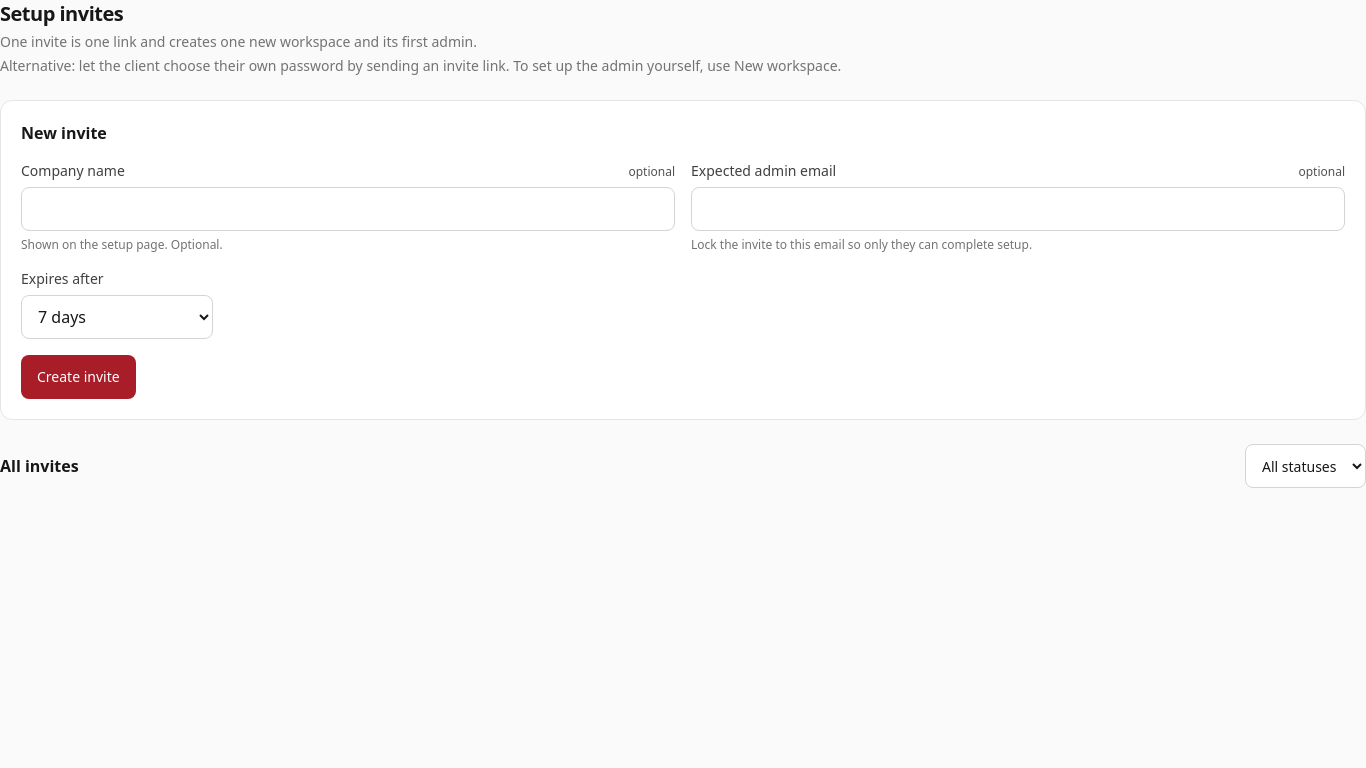
Test case: reauthentication › cancelling the dialog abandons the action quietly
The width and height of the screenshot is (1366, 768).
In the field labelled "Company name optional": (348, 209) 21,187 -> 675,231, type "Acme Quarry"
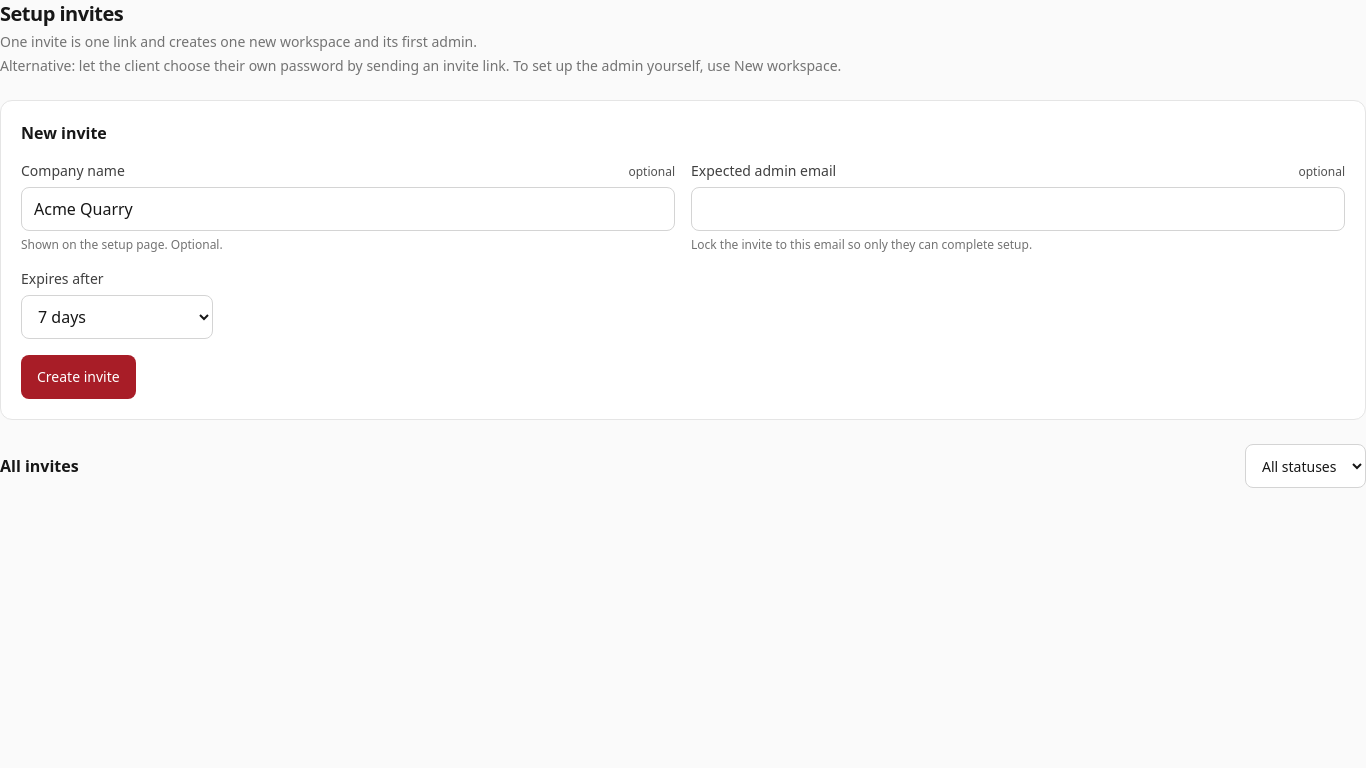
Click the button "Create invite": (78, 377) 21,355 -> 136,399
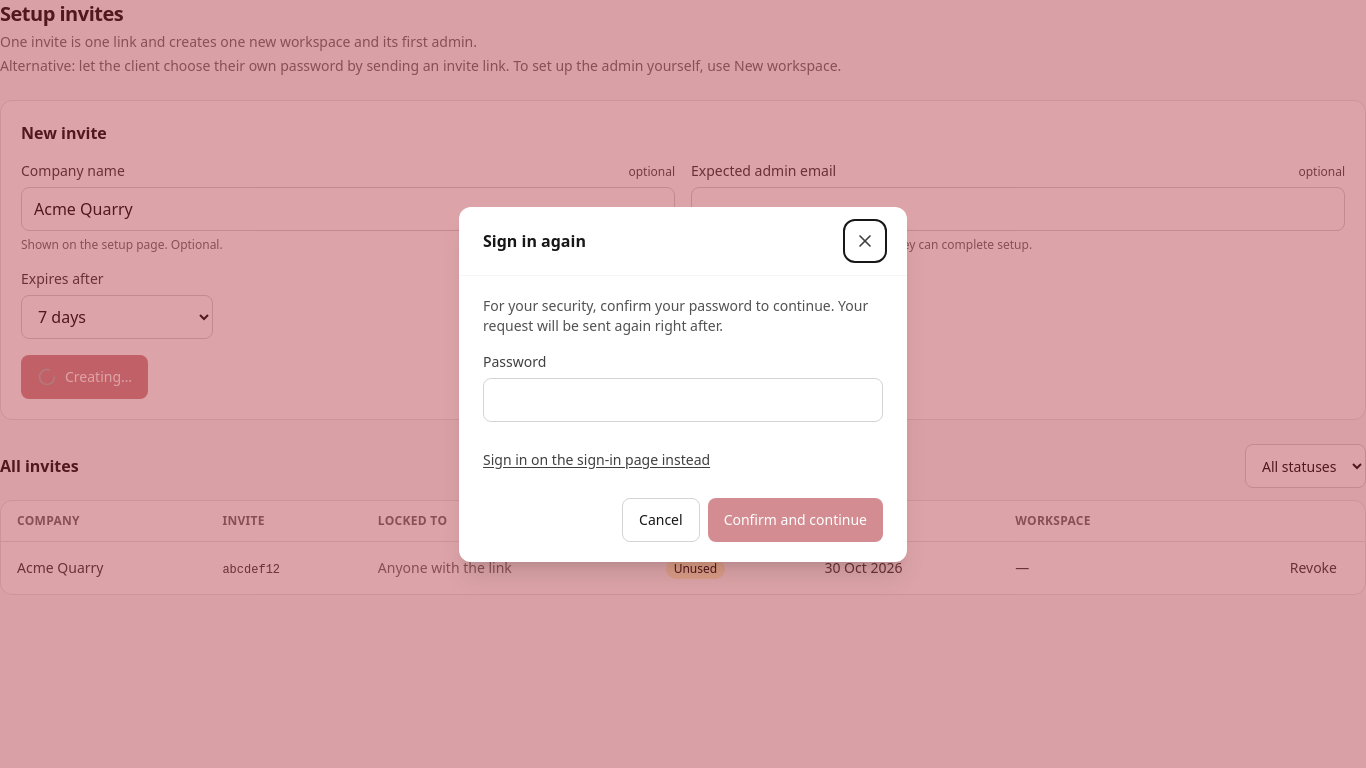
Click the button "Cancel": (661, 520) 622,498 -> 700,542
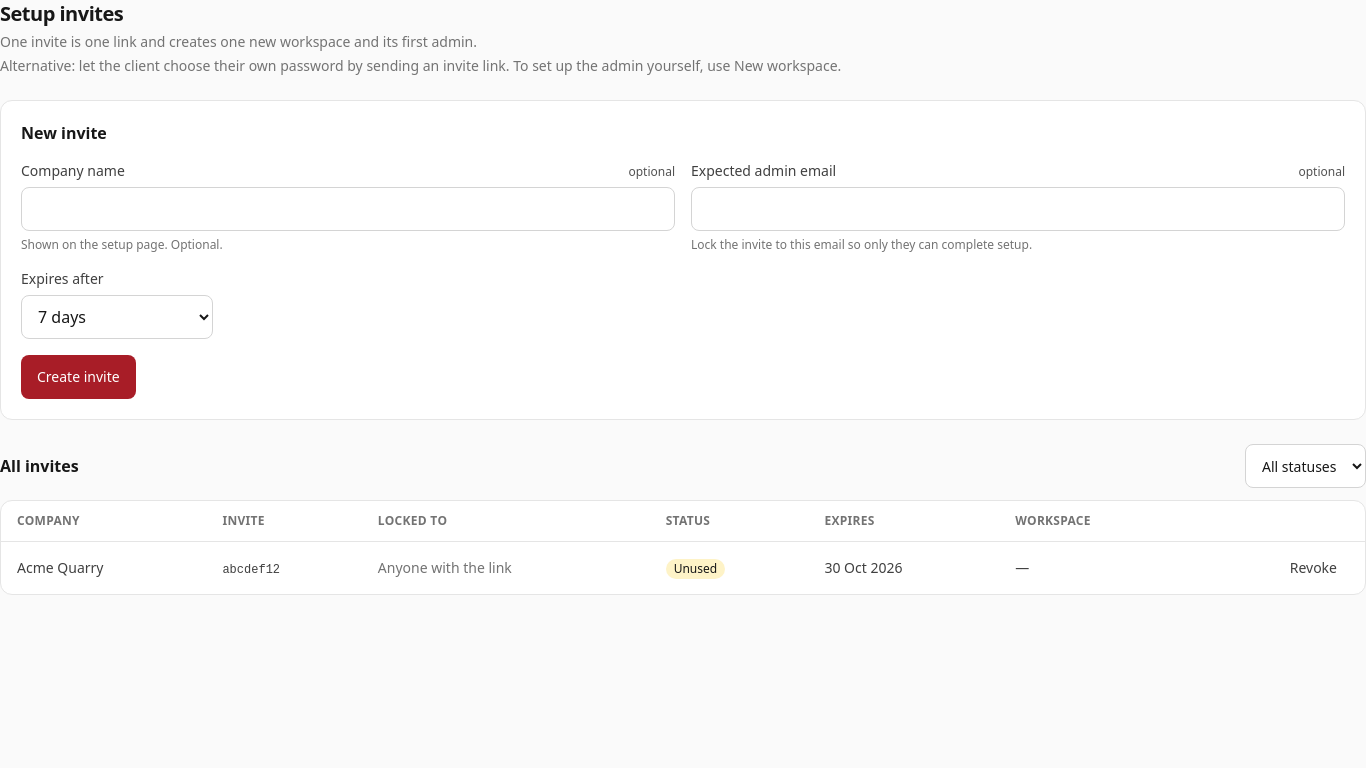
expect the dialog is gone: met
